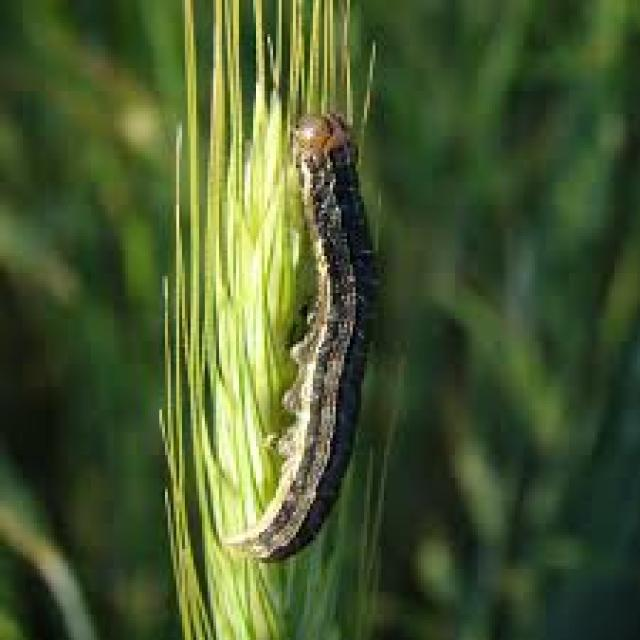Army Worm: (211, 112, 382, 569)
